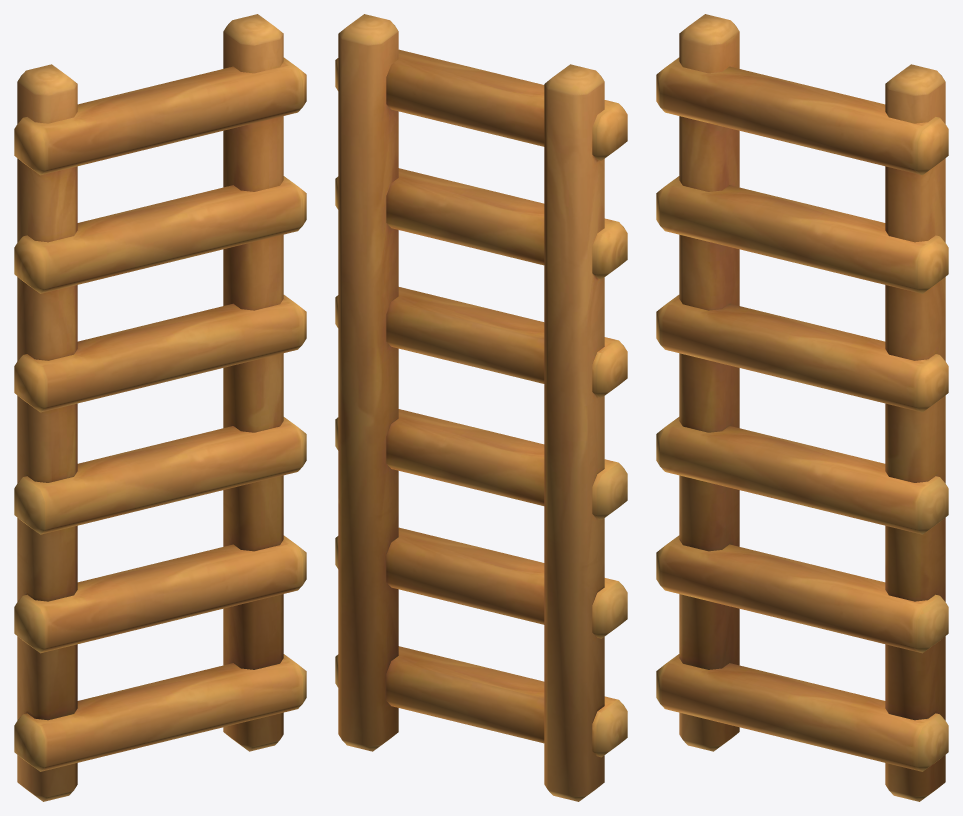
The model's file is Ladder_01.fbx.
The picture shows the model from 3 angles, left to right: view 1: azimuth 30°, elevation 25°; view 2: azimuth 150°, elevation 25°; view 3: azimuth 330°, elevation 25°; orthographic projection.
Visible parts, largest first — view 1: Ladder_01; view 2: Ladder_01; view 3: Ladder_01.
Boxes of the visible parts, <box> form: Ladder_01: <box>14,14,306,801</box>; Ladder_01: <box>335,14,627,801</box>; Ladder_01: <box>656,14,948,801</box>.
Bounding box in the file's own units: 1.6 × 4 × 0.375.
